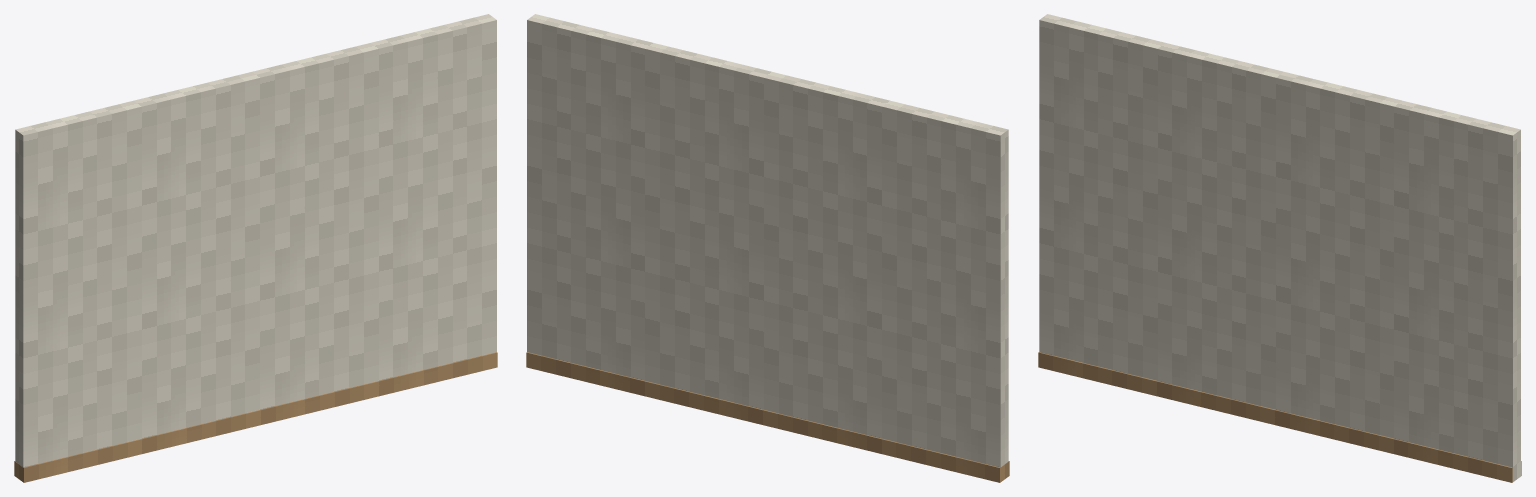
Rendered from retro-arcade-and-mall-1989-bedroom-wall-panel-25708e12__15568.glb.
3 renders of one model, left to right at view 1: azimuth 30°, elevation 25°; view 2: azimuth 150°, elevation 25°; view 3: azimuth 330°, elevation 25°, orthographic.
Visible parts, largest first — view 1: bedroom-wall-panel; view 2: bedroom-wall-panel; view 3: bedroom-wall-panel.
Boxes of the visible parts, bbox=[...] form: bedroom-wall-panel: bbox=[14, 14, 497, 482]; bedroom-wall-panel: bbox=[526, 14, 1009, 482]; bedroom-wall-panel: bbox=[1038, 14, 1521, 482].
Bounding box in the file's own units: 4 × 2.8 × 0.1401.
Materials: 2 (2 with a texture image).
